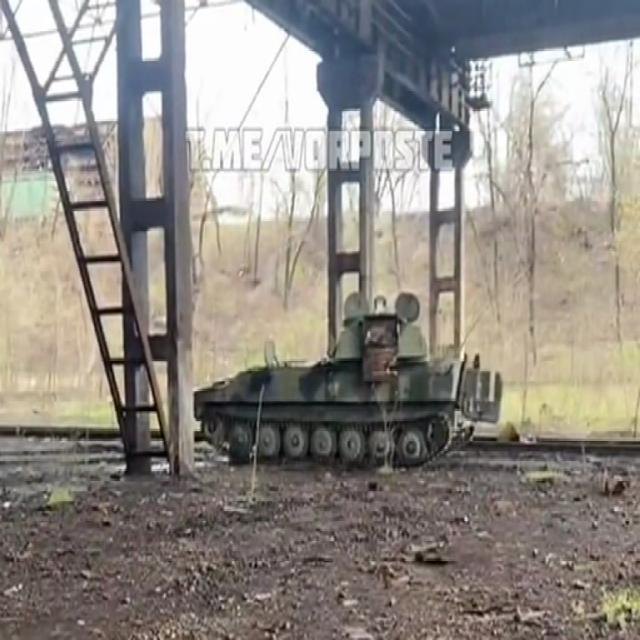ART: (194, 291, 500, 489)
